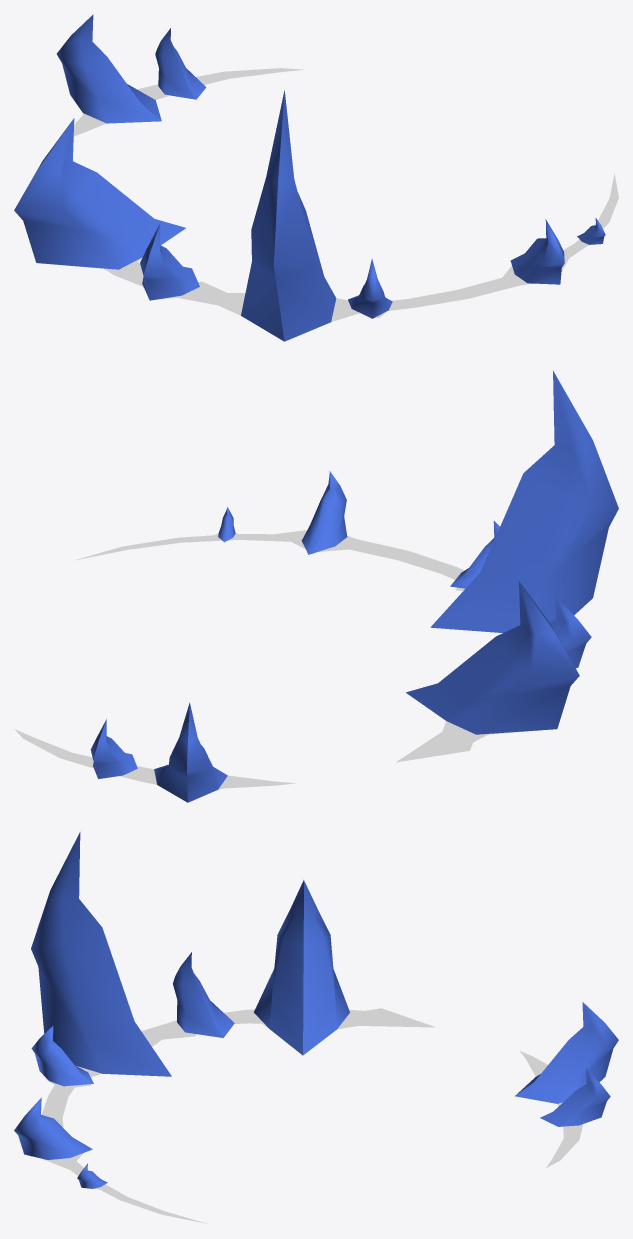
File: VFX.fbx
3 renders of one model, top to bottom at view 1: azimuth 30°, elevation 25°; view 2: azimuth 150°, elevation 25°; view 3: azimuth 270°, elevation 25°, orthographic. The views are drawn at different scales.
Parts seen in each view (by area): view 1: Claw, Claw2, Pattern1, Pattern2; view 2: Claw, Claw2, Pattern1, Pattern2; view 3: Claw, Claw2, Pattern1, Pattern2.
Part boxes in pixels (x1,y1,x2,y2): Claw: (14, 90, 605, 341); Claw2: (56, 14, 206, 123); Pattern1: (45, 173, 618, 321); Pattern2: (73, 68, 303, 136); Claw: (218, 370, 618, 734); Claw2: (90, 702, 227, 802); Pattern1: (75, 530, 553, 762); Pattern2: (14, 729, 295, 789); Claw: (14, 832, 349, 1188); Claw2: (515, 1002, 618, 1126); Pattern1: (41, 1008, 435, 1223); Pattern2: (520, 1051, 583, 1167).
Bounding box in the file's own units: 692 × 281 × 720.
